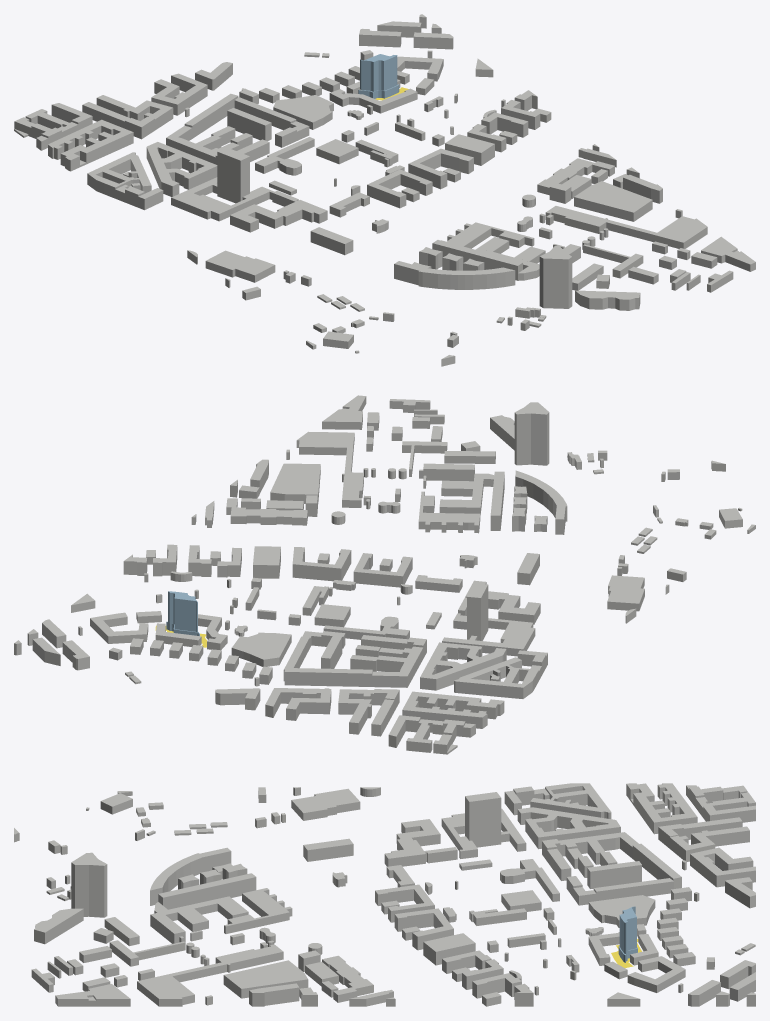
3 views of the same model, one above another, from view 1: azimuth 30°, elevation 25°; view 2: azimuth 150°, elevation 25°; view 3: azimuth 270°, elevation 25° (orthographic). The views are drawn at different scales.
Parts seen in each view (by area): view 1: context_0009, context_0002, context_0000, context_0001, context_0025, context_0039, context_0014, context_0016, context_0005, context_0003, V3_01_tower, context_0018 (+19 smaller); view 2: context_0025, context_0001, context_0000, context_0005, context_0002, context_0009, context_0014, context_0016, context_0004, context_0003, context_0007, context_0011 (+17 smaller); view 3: context_0002, context_0025, context_0039, context_0000, context_0017, context_0009, context_0003, context_0014, context_0001, context_0005, context_0004, context_0011 (+48 smaller).
Boxes of the visible parts, bbox=[...] form: context_0009: bbox=[394, 261, 515, 289]; context_0002: bbox=[230, 190, 327, 232]; context_0000: bbox=[574, 181, 652, 221]; context_0001: bbox=[171, 177, 274, 221]; context_0025: bbox=[539, 246, 572, 308]; context_0039: bbox=[217, 147, 249, 203]; context_0014: bbox=[408, 148, 473, 189]; context_0016: bbox=[367, 169, 432, 208]; context_0005: bbox=[273, 95, 333, 129]; context_0003: bbox=[205, 250, 275, 282]; V3_01_tower: bbox=[360, 54, 397, 91]; context_0018: bbox=[575, 290, 640, 310]; context_0025: bbox=[514, 402, 549, 465]; context_0001: bbox=[442, 613, 535, 656]; context_0000: bbox=[270, 463, 320, 503]; context_0005: bbox=[231, 632, 291, 666]; context_0002: bbox=[458, 580, 540, 624]; context_0009: bbox=[515, 470, 567, 534]; context_0014: bbox=[292, 547, 351, 581]; context_0016: bbox=[353, 553, 412, 587]; context_0004: bbox=[296, 431, 354, 455]; context_0003: bbox=[607, 575, 644, 611]; context_0007: bbox=[230, 507, 307, 525]; context_0011: bbox=[90, 612, 148, 643]; context_0002: bbox=[384, 819, 457, 866]; context_0025: bbox=[71, 852, 107, 917]; context_0039: bbox=[465, 792, 501, 847]; context_0000: bbox=[223, 960, 308, 998]; context_0017: bbox=[158, 873, 256, 909]; context_0009: bbox=[150, 847, 231, 905]; context_0003: bbox=[291, 788, 360, 820]; context_0014: bbox=[394, 908, 453, 950]; context_0001: bbox=[441, 808, 526, 858]; context_0005: bbox=[588, 895, 655, 927]; context_0004: bbox=[137, 974, 194, 1006]; context_0011: bbox=[627, 956, 685, 992].
Bounding box in the file's own units: 699 × 80 × 1036.
